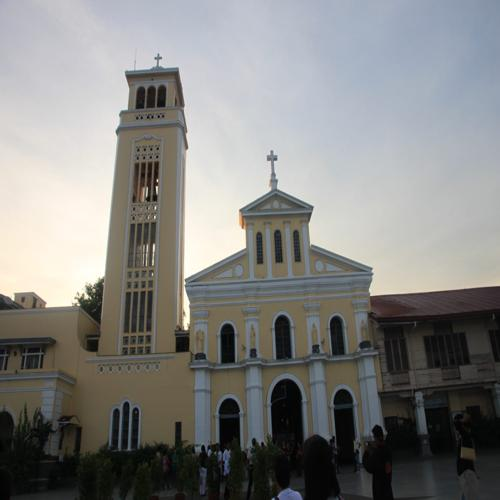Manaoag Church: (91, 46, 382, 465)
